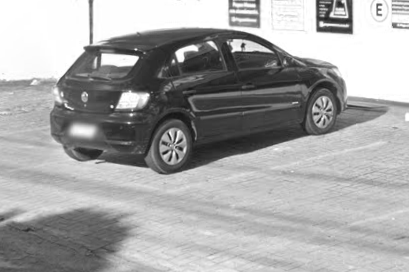car: (48, 24, 349, 174)
